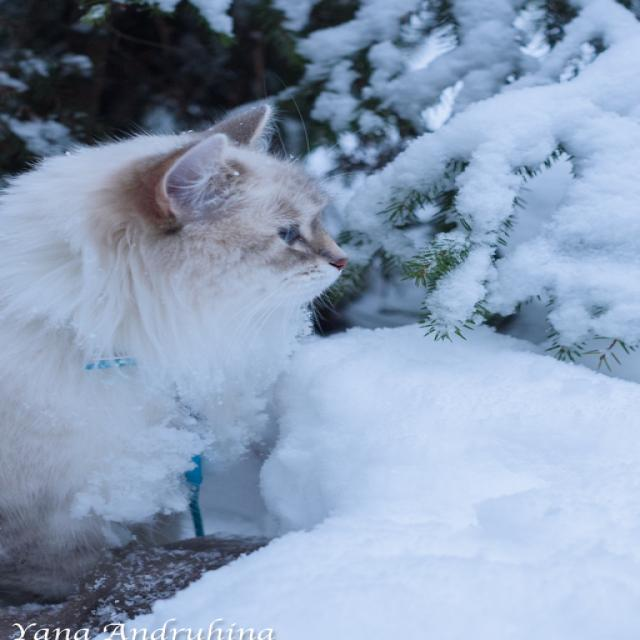Neva Masquerade: (0, 98, 356, 640)
